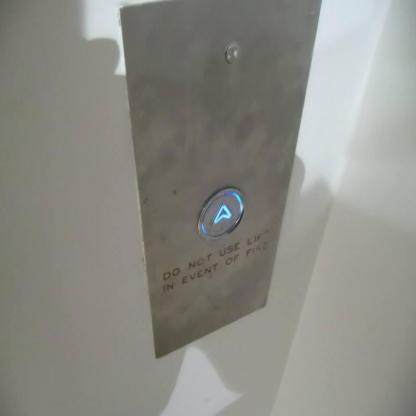up: (196, 185, 245, 240)
